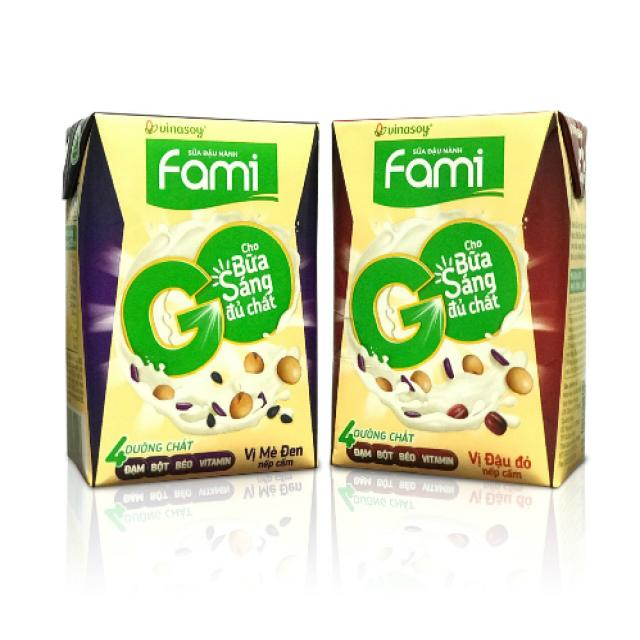Fami: (332, 113, 587, 486), (67, 118, 319, 488)
